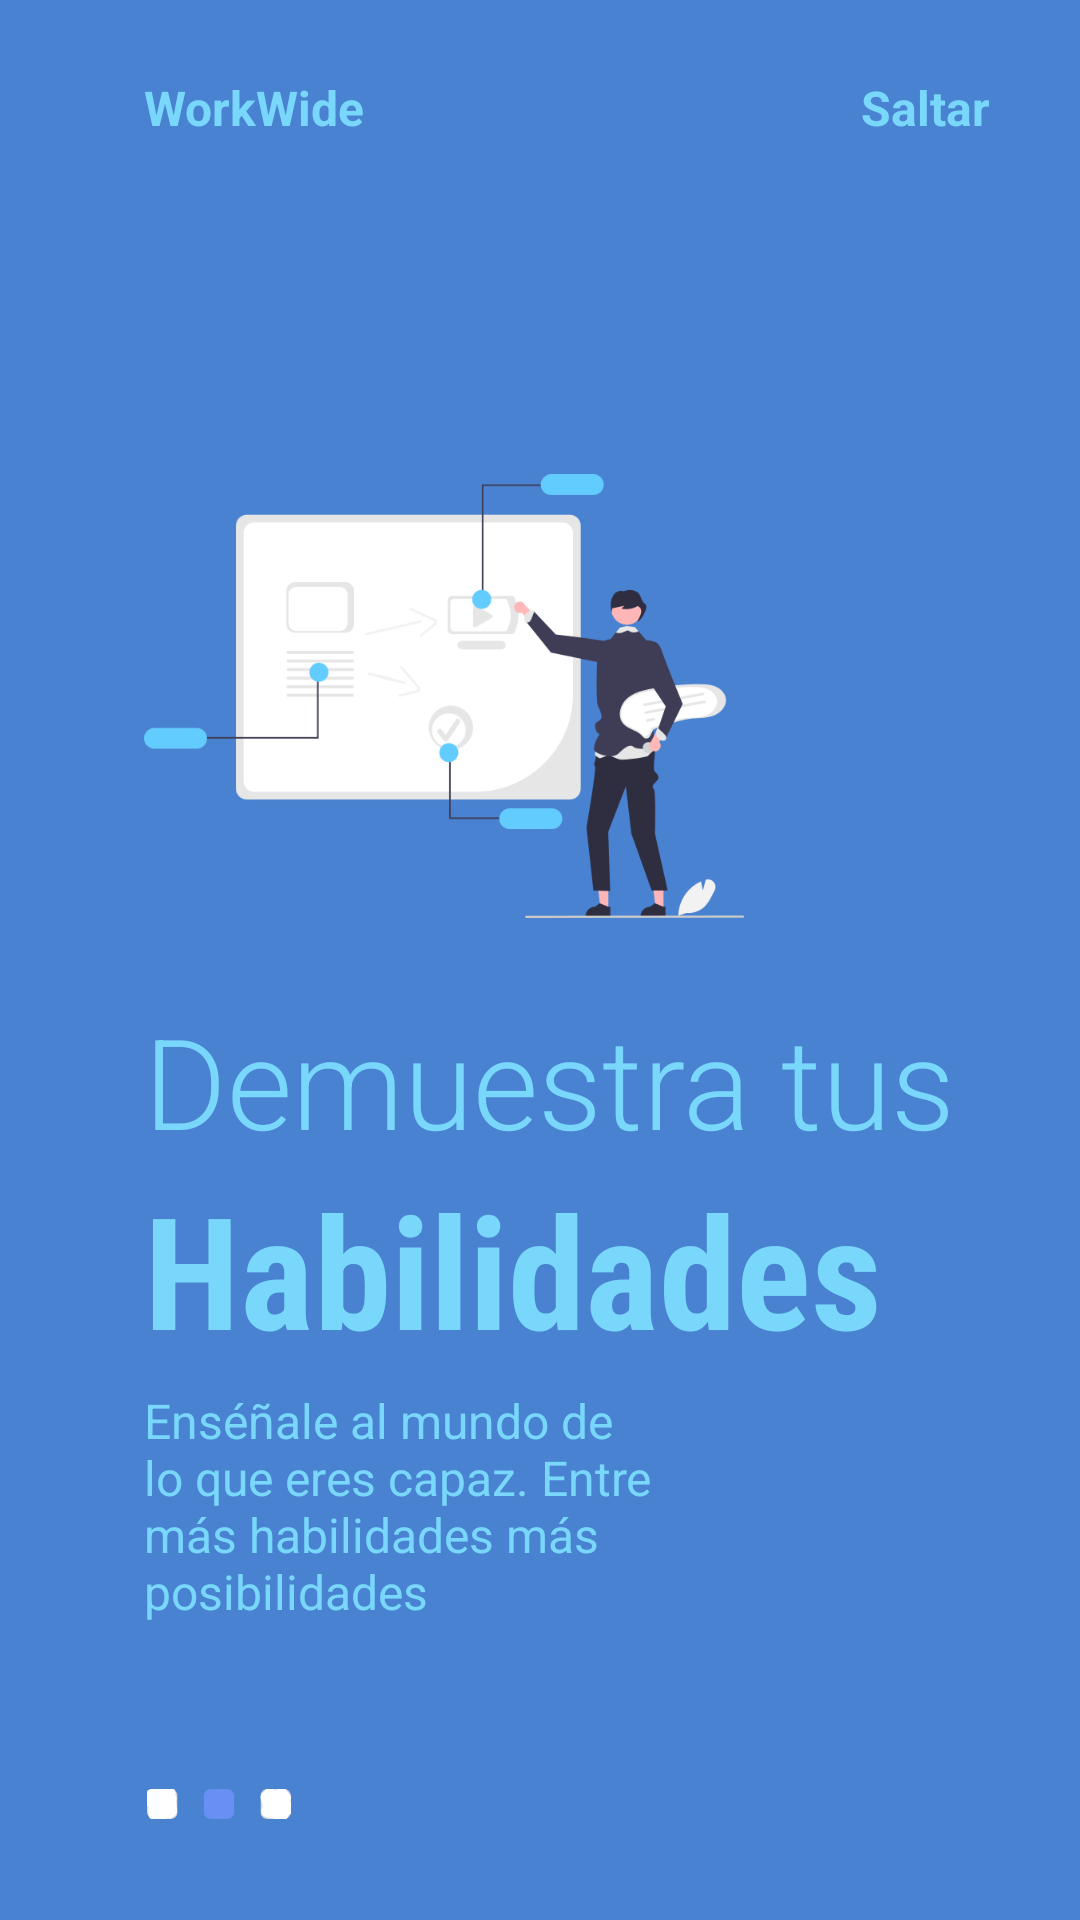

Icon bounding boxes for this 1080px×1920px phone screenshot, format Rect(x1, y1, x2, y2):
tab: Rect(147, 1789, 291, 1819)
